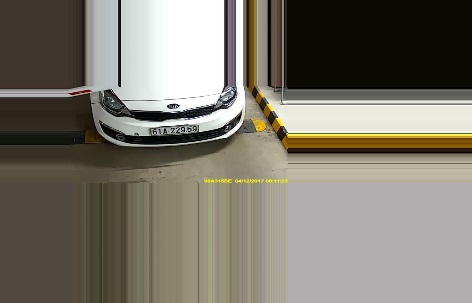plate: (151, 124, 202, 136)
